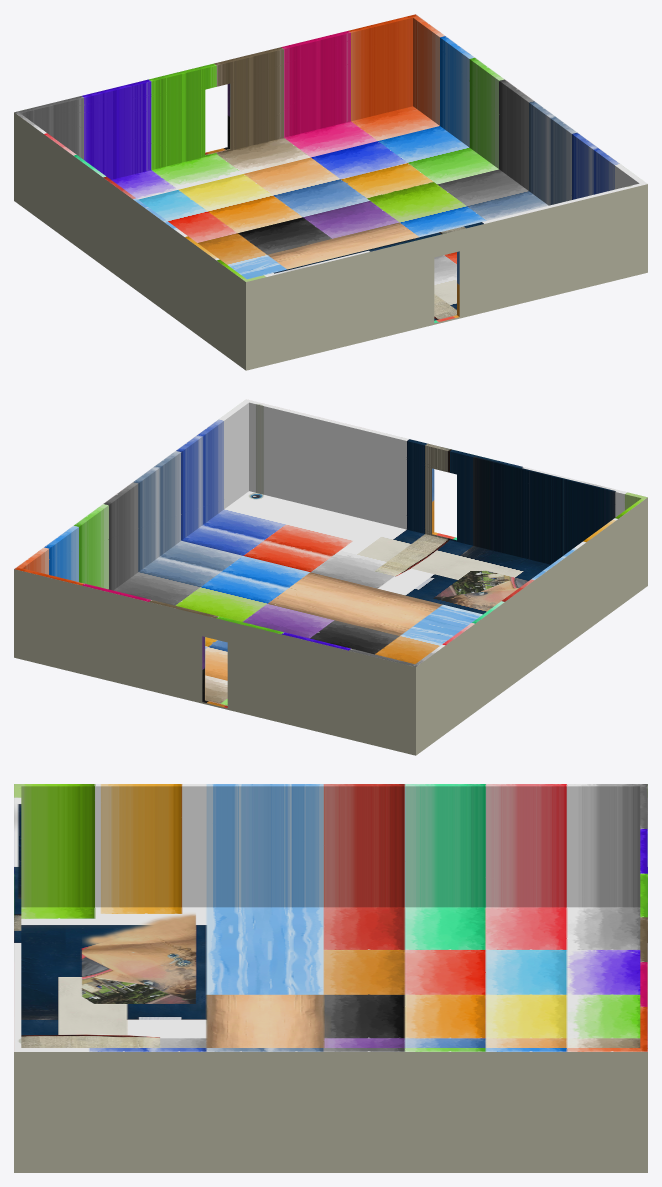
Rendered from Room_001.glb.
The picture shows the model from 3 angles, top to bottom: view 1: azimuth 30°, elevation 25°; view 2: azimuth 150°, elevation 25°; view 3: azimuth 270°, elevation 25°; orthographic projection. The views are drawn at different scales.
Visible parts, largest first — view 1: Room_001; view 2: Room_001; view 3: Room_001.
Boxes of the visible parts, <box> form: Room_001: <box>14,14,647,370</box>; Room_001: <box>14,399,647,755</box>; Room_001: <box>14,784,647,1172</box>.
Size of the model in its own units: 16 by 3.37 by 16.
Materials: 1 (1 with a texture image).
